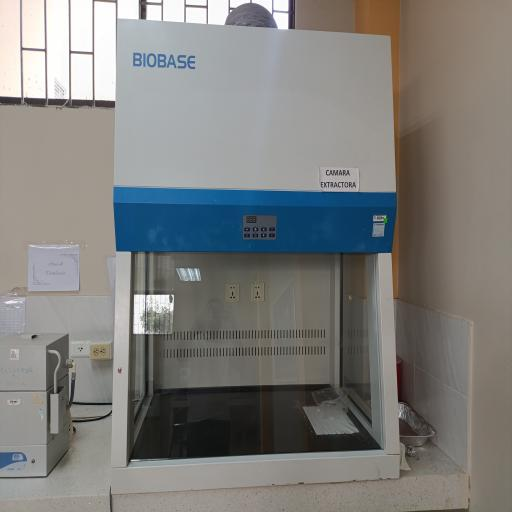Camara_Extractora_Biobase: (103, 12, 417, 499)
